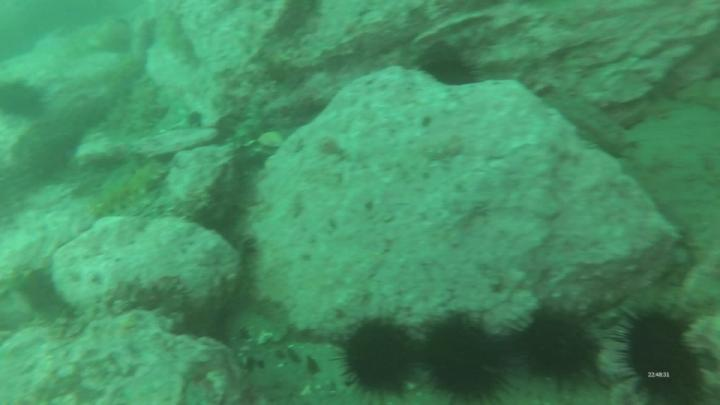echinus: (607, 303, 706, 405), (416, 308, 511, 405), (507, 305, 605, 394), (331, 311, 422, 405), (418, 57, 484, 88), (1, 78, 48, 120)
holothurian: (87, 160, 167, 222), (157, 1, 200, 68), (130, 73, 166, 138)
